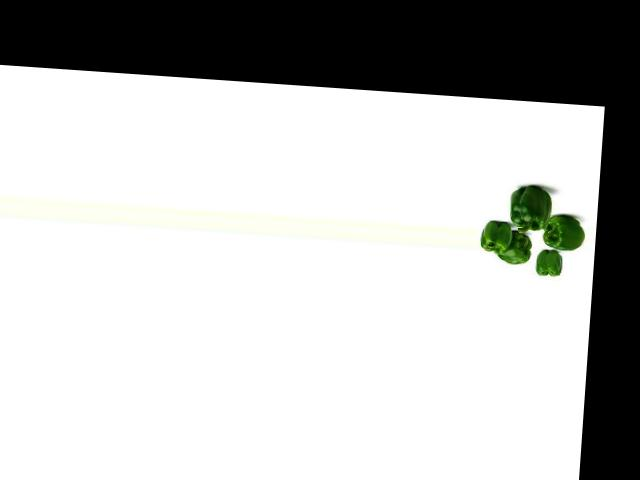bell_pepper: (479, 216, 515, 253)
